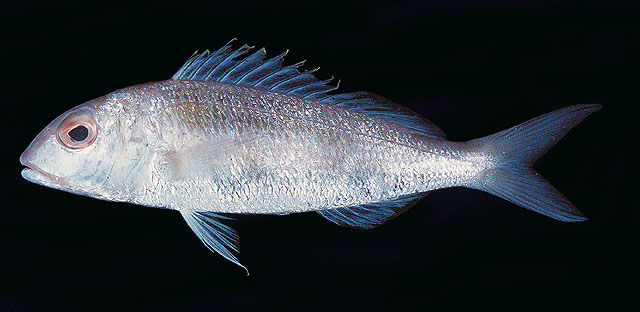fish: (20, 37, 602, 278)
